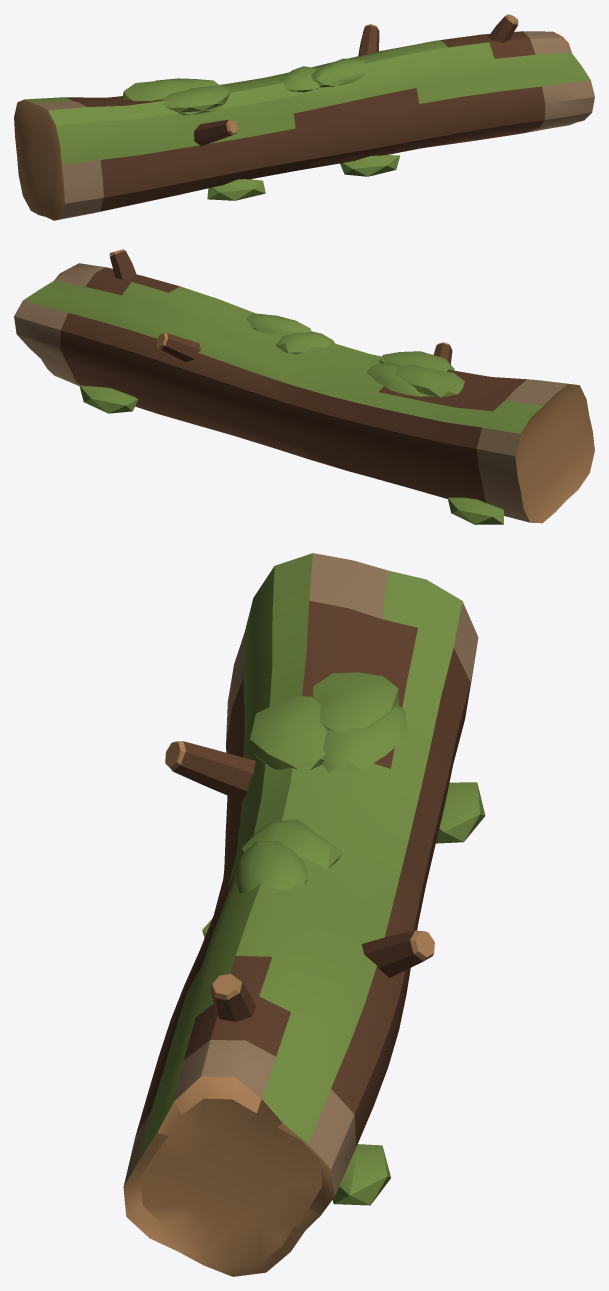
File: fallen_log.glb
3 renders of one model, top to bottom at view 1: azimuth 30°, elevation 25°; view 2: azimuth 150°, elevation 25°; view 3: azimuth 270°, elevation 25°, orthographic. The views are drawn at different scales.
Parts seen in each view (by area): view 1: fallen_log; view 2: fallen_log; view 3: fallen_log.
Part boxes in pixels (box(x1,y1,x2,y2)): fallen_log: box(14, 14, 594, 220); fallen_log: box(14, 249, 594, 524); fallen_log: box(123, 553, 485, 1276).
Size of what is drawn, in the model's own units: 2.6 by 0.6042 by 0.7886.
